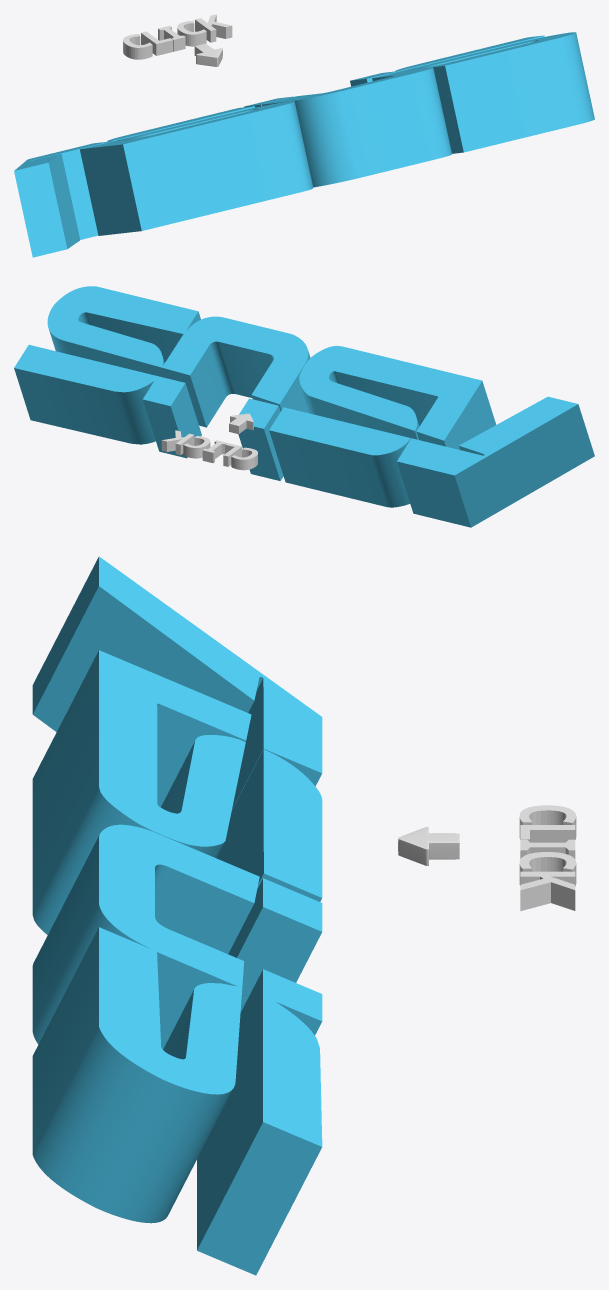
Rendered from asset.gltf.
The picture shows the model from 3 angles, top to bottom: view 1: azimuth 30°, elevation 25°; view 2: azimuth 150°, elevation 25°; view 3: azimuth 270°, elevation 25°; orthographic projection. The views are drawn at different scales.
Parts seen in each view (by area): view 1: ID7 (×3), ID62 (×5), 3D Text - C (×2), 3D Text - K, Pin, 3D Text - L, 3D Text - I; view 2: ID62 (×6), ID7 (×6), 3D Text - C (×2), 3D Text - K, Pin, 3D Text - I; view 3: ID62 (×6), ID7 (×6), 3D Text - C (×2), 3D Text - K, Pin, 3D Text - L.
Part boxes in pixels (x1,y1,x2,y2): ID7 (×3): [17, 47, 594, 257]; ID62 (×5): [14, 32, 579, 185]; 3D Text - C (×2): [123, 20, 206, 59]; 3D Text - K: [195, 14, 232, 42]; Pin: [194, 43, 222, 66]; 3D Text - L: [141, 31, 172, 55]; 3D Text - I: [158, 25, 185, 51]; ID62 (×6): [14, 286, 580, 483]; ID7 (×6): [17, 321, 594, 527]; 3D Text - C (×2): [183, 436, 257, 470]; 3D Text - K: [161, 430, 194, 455]; Pin: [229, 413, 253, 433]; 3D Text - I: [202, 440, 226, 463]; ID62 (×6): [88, 556, 322, 1167]; ID7 (×6): [32, 578, 310, 1275]; 3D Text - C (×2): [519, 805, 576, 886]; 3D Text - K: [520, 871, 575, 911]; Pin: [398, 827, 459, 865]; 3D Text - L: [520, 825, 575, 842].
Bounding box in the file's own units: 0.1906 × 0.0399 × 0.0882.
